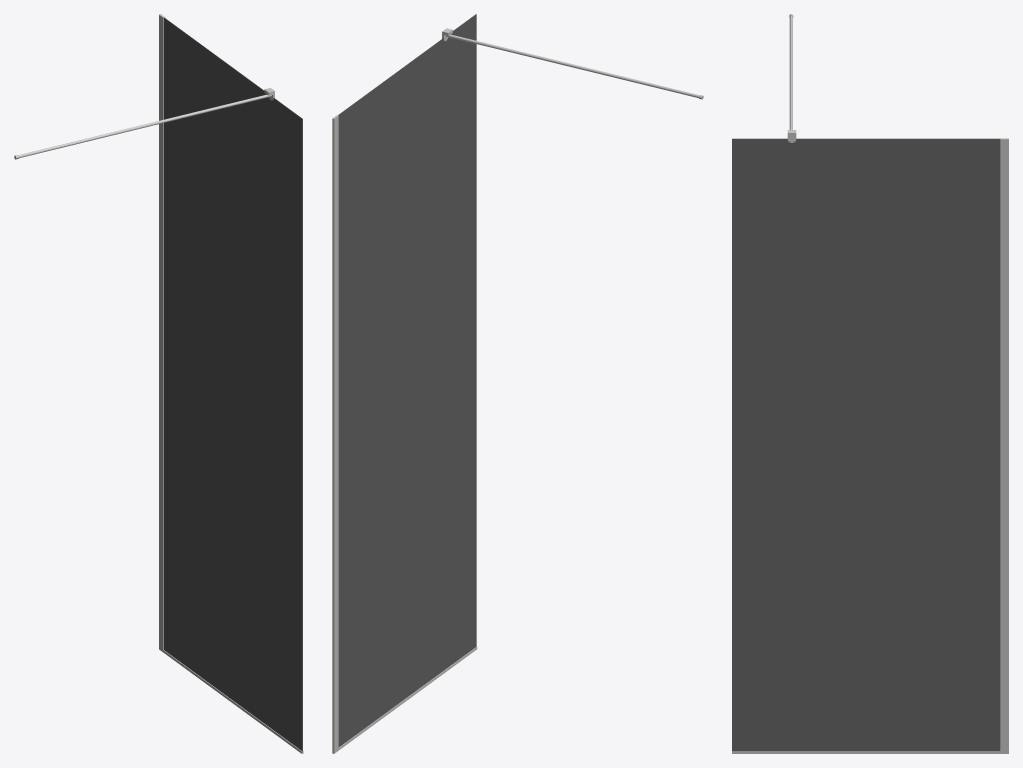
Rendered from Shower_enclosures_002.gltf.
3 views of the same model, side by side, from view 1: azimuth 30°, elevation 25°; view 2: azimuth 150°, elevation 25°; view 3: azimuth 270°, elevation 25° (orthographic). The views are drawn at different scales.
Parts seen in each view (by area): view 1: Shower_enclosures_002; view 2: Shower_enclosures_002; view 3: Shower_enclosures_002.
Boxes of the visible parts, bbox=[...] form: Shower_enclosures_002: bbox=[14, 14, 303, 753]; Shower_enclosures_002: bbox=[332, 14, 703, 753]; Shower_enclosures_002: bbox=[732, 14, 1008, 753].
Size of the model in its own units: 0.833 by 1.98 by 0.8.
2 materials, 2 textured.
